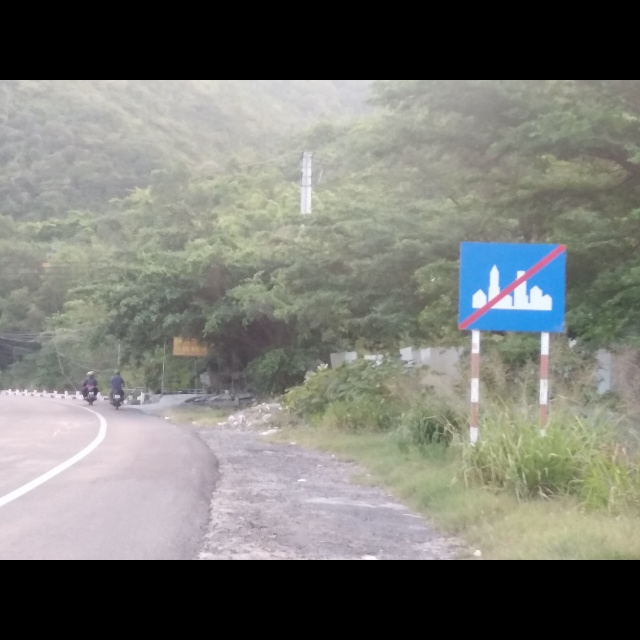Hết khu đông dân cư: (458, 239, 567, 334)
